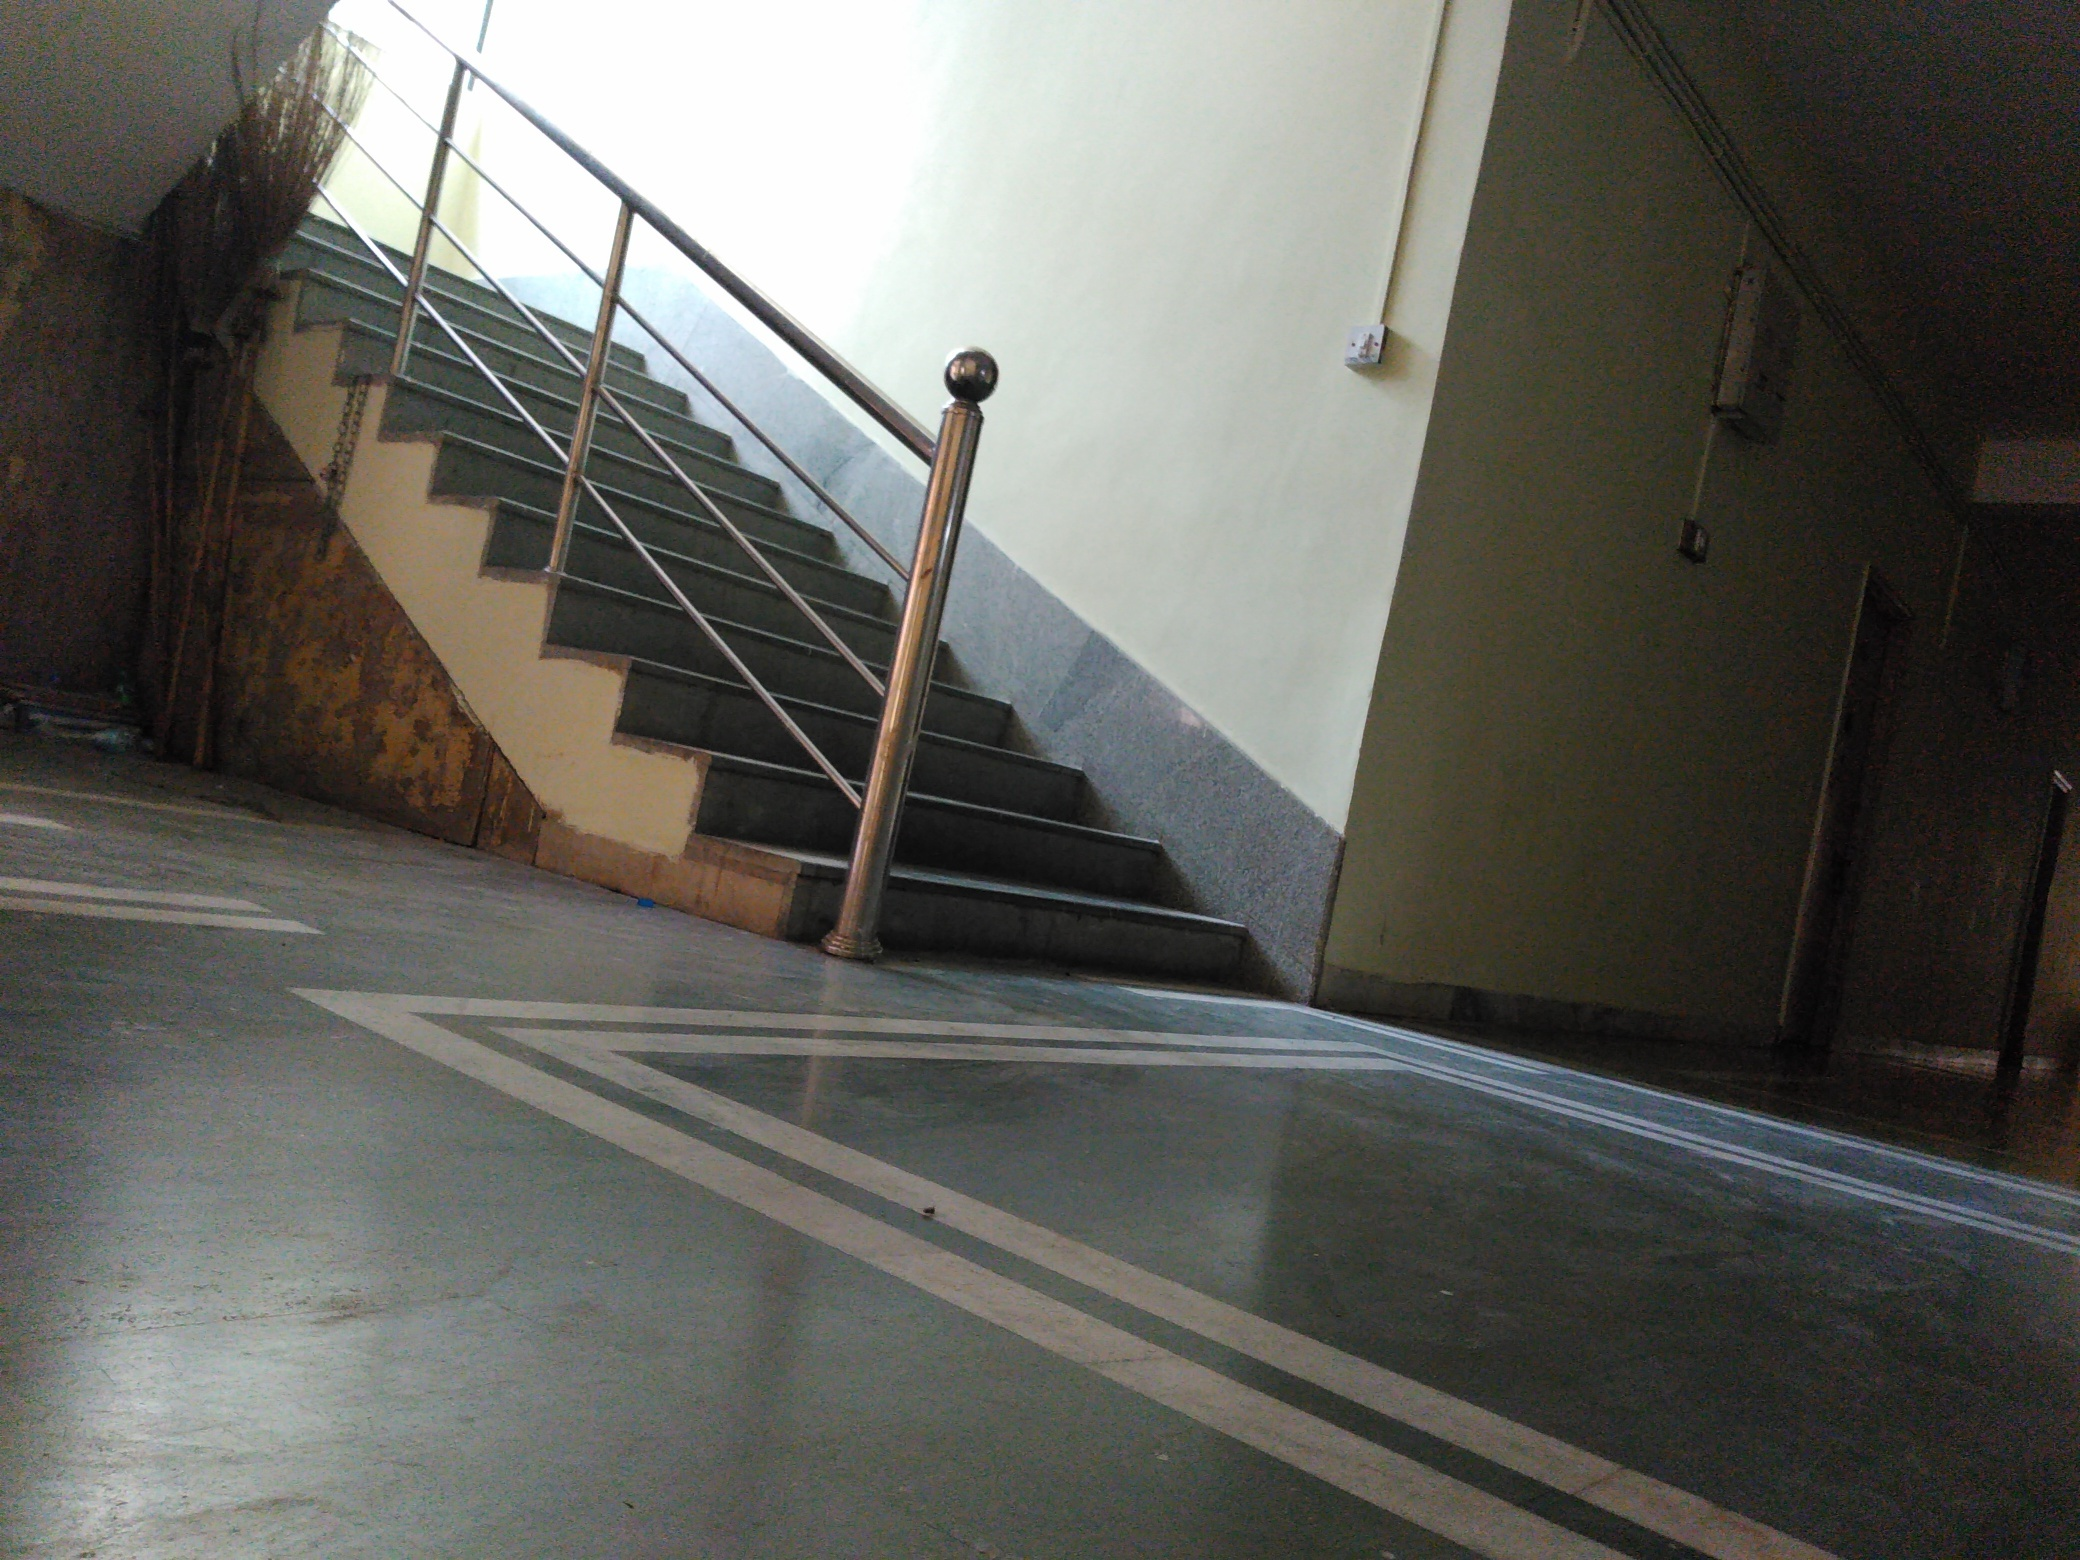stairs_up: (242, 172, 1292, 964)
